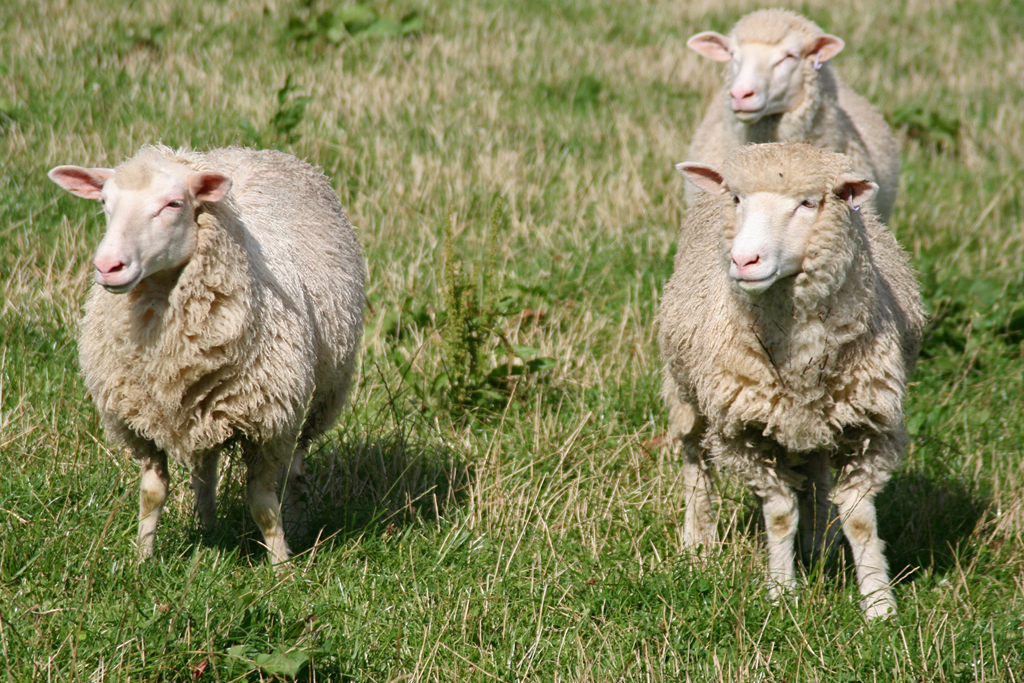sheep: (48, 139, 366, 578), (651, 140, 931, 620)
